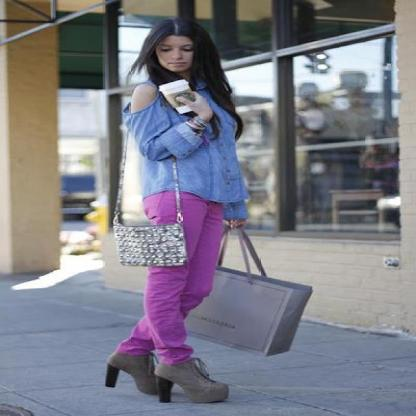bag: (108, 80, 312, 355)
pants: (125, 189, 227, 374)
shirt: (121, 91, 248, 220)
shoe: (105, 351, 228, 403)
